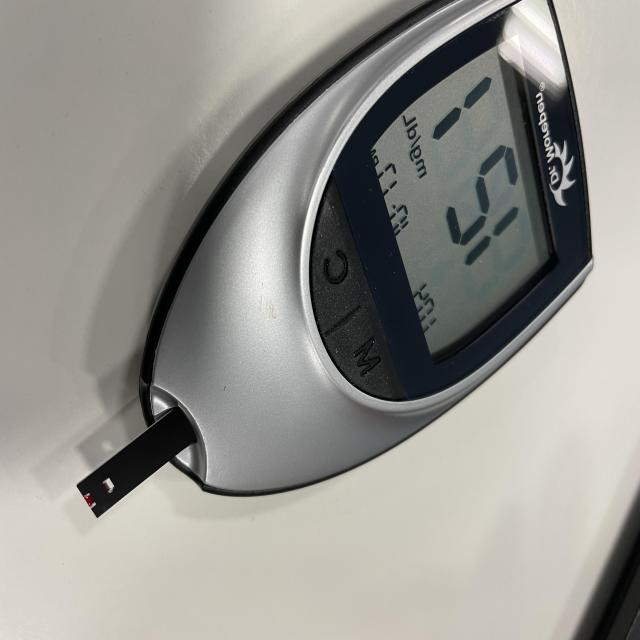gluco: (82, 0, 596, 517)
